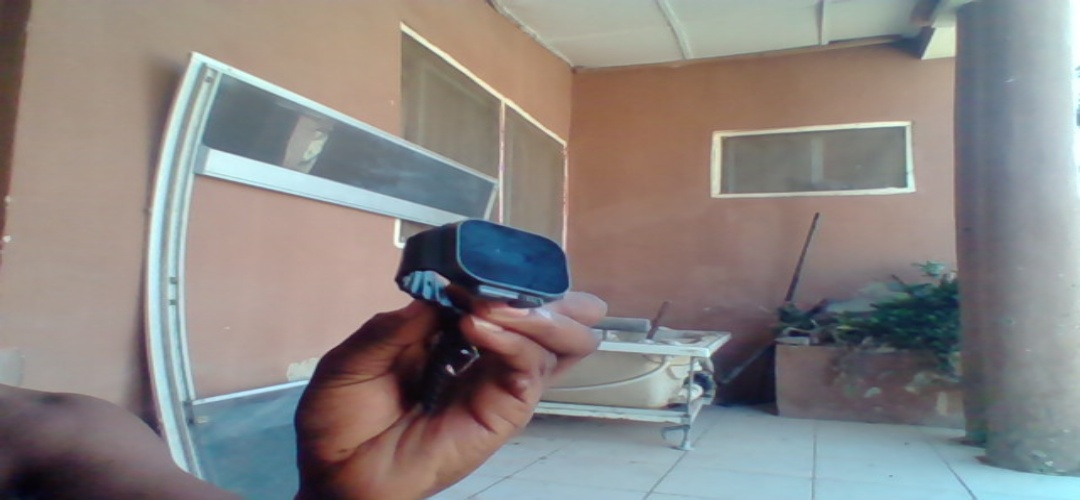smart_watch: (400, 221, 572, 311)
